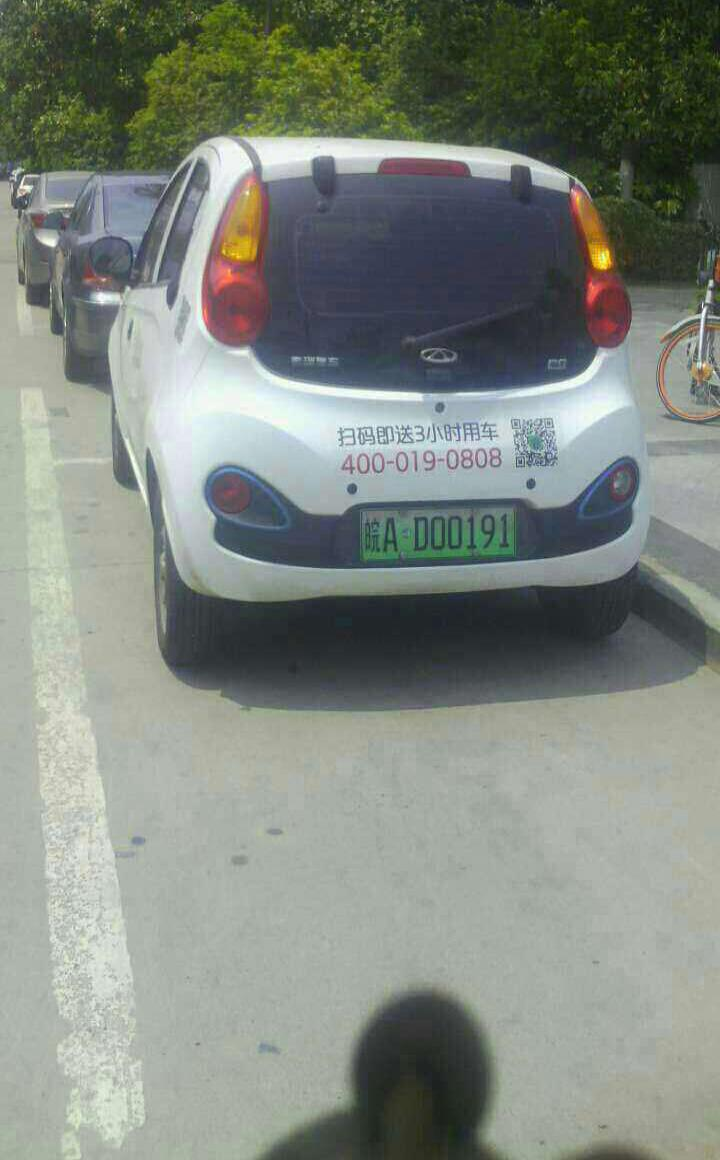car_id: (359, 503, 520, 562)
